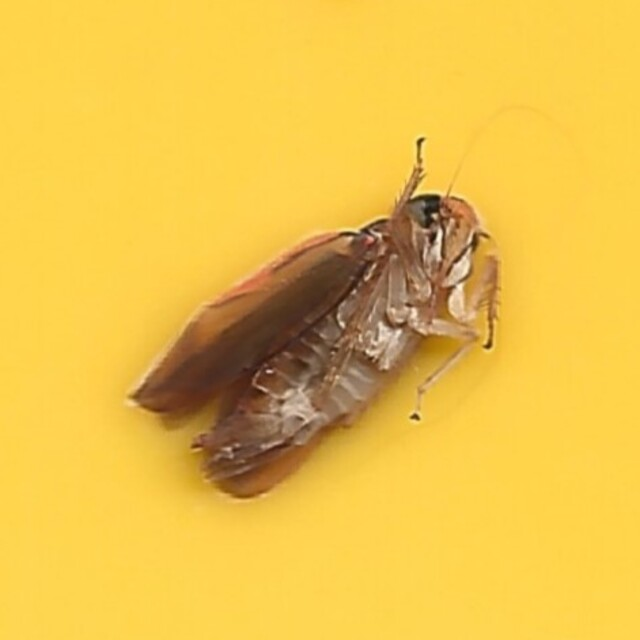Hemiptera: (136, 136, 504, 504)
